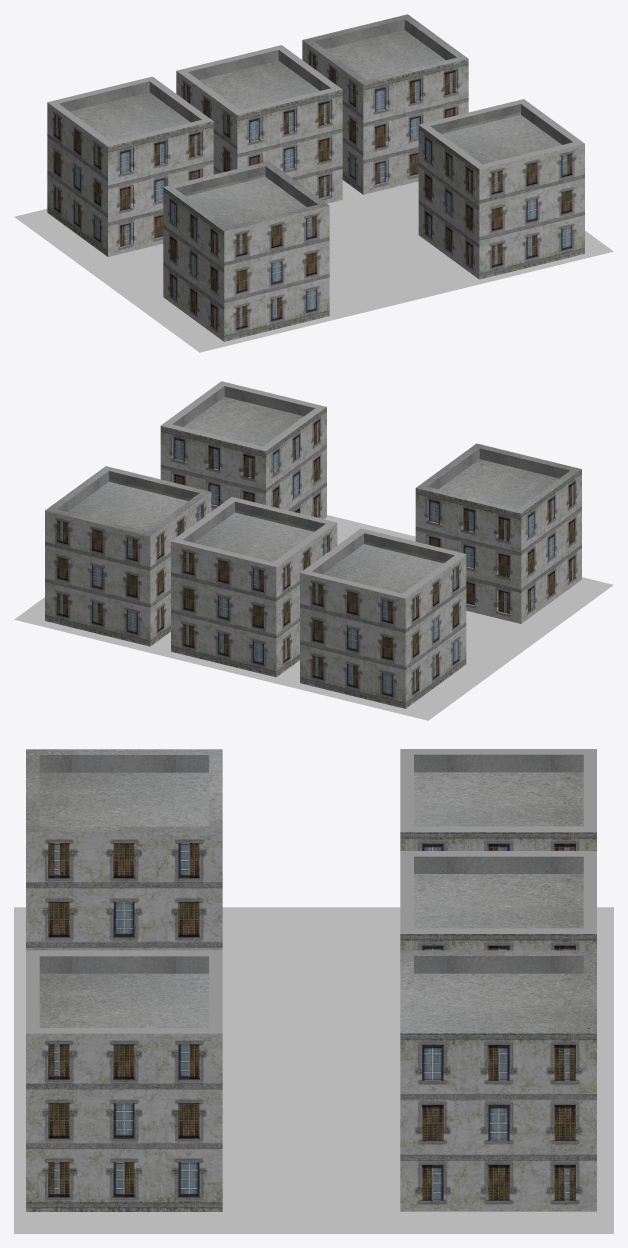
File: build.obj
3 renders of one model, top to bottom at view 1: azimuth 30°, elevation 25°; view 2: azimuth 150°, elevation 25°; view 3: azimuth 270°, elevation 25°, orthographic. The views are drawn at different scales.
Parts seen in each view (by area): view 1: Buil.000_Cube.006, Buil.003_Cube.008, Buil.004_Cube.009, Plane, Buil.006_Cube.011, Buil.005_Cube.010; view 2: Buil.004_Cube.009, Buil.000_Cube.006, Buil.005_Cube.010, Buil.006_Cube.011, Buil.003_Cube.008, Plane; view 3: Plane, Buil.006_Cube.011, Buil.003_Cube.008, Buil.000_Cube.006, Buil.004_Cube.009, Buil.005_Cube.010.
Boxes of the visible parts, x1,y1,x2,y2 form: Buil.000_Cube.006: (163, 161, 329, 341); Buil.003_Cube.008: (418, 99, 584, 279); Buil.004_Cube.009: (47, 76, 213, 256); Plane: (14, 180, 613, 352); Buil.006_Cube.011: (302, 14, 468, 194); Buil.005_Cube.010: (176, 45, 342, 203); Buil.004_Cube.009: (300, 528, 466, 708); Buil.000_Cube.006: (415, 443, 581, 623); Buil.005_Cube.010: (171, 497, 337, 677); Buil.006_Cube.011: (45, 466, 211, 646); Buil.003_Cube.008: (160, 381, 326, 519); Plane: (14, 515, 613, 720); Plane: (14, 907, 613, 1233); Buil.006_Cube.011: (400, 950, 596, 1211); Buil.003_Cube.008: (26, 950, 222, 1211); Buil.000_Cube.006: (26, 749, 222, 950); Buil.004_Cube.009: (400, 749, 596, 850); Buil.005_Cube.010: (400, 851, 596, 950).
Size of the model in its own units: 19.27 by 4.96 by 14.96.
Materials: 4 (2 with a texture image).
